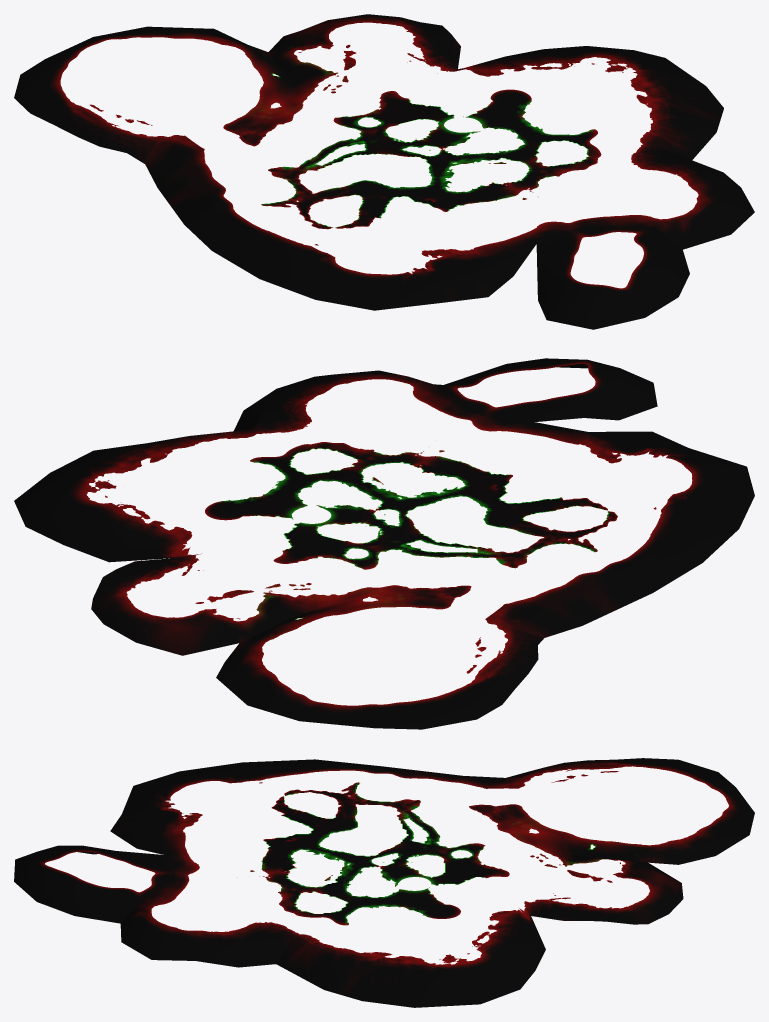
File: dimianhuanjing1.FBX
3 renders of one model, top to bottom at view 1: azimuth 30°, elevation 25°; view 2: azimuth 150°, elevation 25°; view 3: azimuth 270°, elevation 25°, orthographic. The views are drawn at different scales.
Visible parts, largest first — view 1: dibuaohuanjing06, dibuaohuanjing05, dibuaohuanjing08, dibuaohuanjing01, dibuaohuanjing07, dibuaohuanjing04, dibuaohuanjing03, dibuaohuanjing02; view 2: dibuaohuanjing06, dibuaohuanjing05, dibuaohuanjing01, dibuaohuanjing03, dibuaohuanjing04, dibuaohuanjing07, dibuaohuanjing08, dibuaohuanjing02; view 3: dibuaohuanjing05, dibuaohuanjing06, dibuaohuanjing07, dibuaohuanjing01, dibuaohuanjing08, dibuaohuanjing04, dibuaohuanjing03, dibuaohuanjing02.
Part boxes in pixels (bbox=[...]): dibuaohuanjing06: bbox=[184, 174, 536, 310]; dibuaohuanjing05: bbox=[448, 46, 723, 164]; dibuaohuanjing08: bbox=[536, 225, 689, 329]; dibuaohuanjing01: bbox=[14, 26, 296, 163]; dibuaohuanjing07: bbox=[477, 145, 754, 249]; dibuaohuanjing04: bbox=[213, 78, 459, 205]; dibuaohuanjing03: bbox=[268, 14, 460, 92]; dibuaohuanjing02: bbox=[145, 107, 280, 224]; dibuaohuanjing06: bbox=[425, 422, 754, 592]; dibuaohuanjing05: bbox=[14, 429, 398, 562]; dibuaohuanjing01: bbox=[216, 597, 543, 729]; dibuaohuanjing03: bbox=[91, 553, 312, 655]; dibuaohuanjing04: bbox=[270, 492, 623, 609]; dibuaohuanjing07: bbox=[234, 370, 534, 475]; dibuaohuanjing08: bbox=[434, 358, 657, 421]; dibuaohuanjing02: bbox=[370, 570, 652, 637]; dibuaohuanjing05: bbox=[276, 865, 545, 1007]; dibuaohuanjing06: bbox=[110, 759, 380, 860]; dibuaohuanjing07: bbox=[120, 853, 315, 967]; dibuaohuanjing01: bbox=[506, 758, 754, 864]; dibuaohuanjing08: bbox=[14, 845, 172, 923]; dibuaohuanjing04: bbox=[329, 767, 560, 884]; dibuaohuanjing03: bbox=[524, 854, 683, 924]; dibuaohuanjing02: bbox=[379, 766, 529, 832].
Size of the model in its own units: 854 by 30.02 by 1117.
